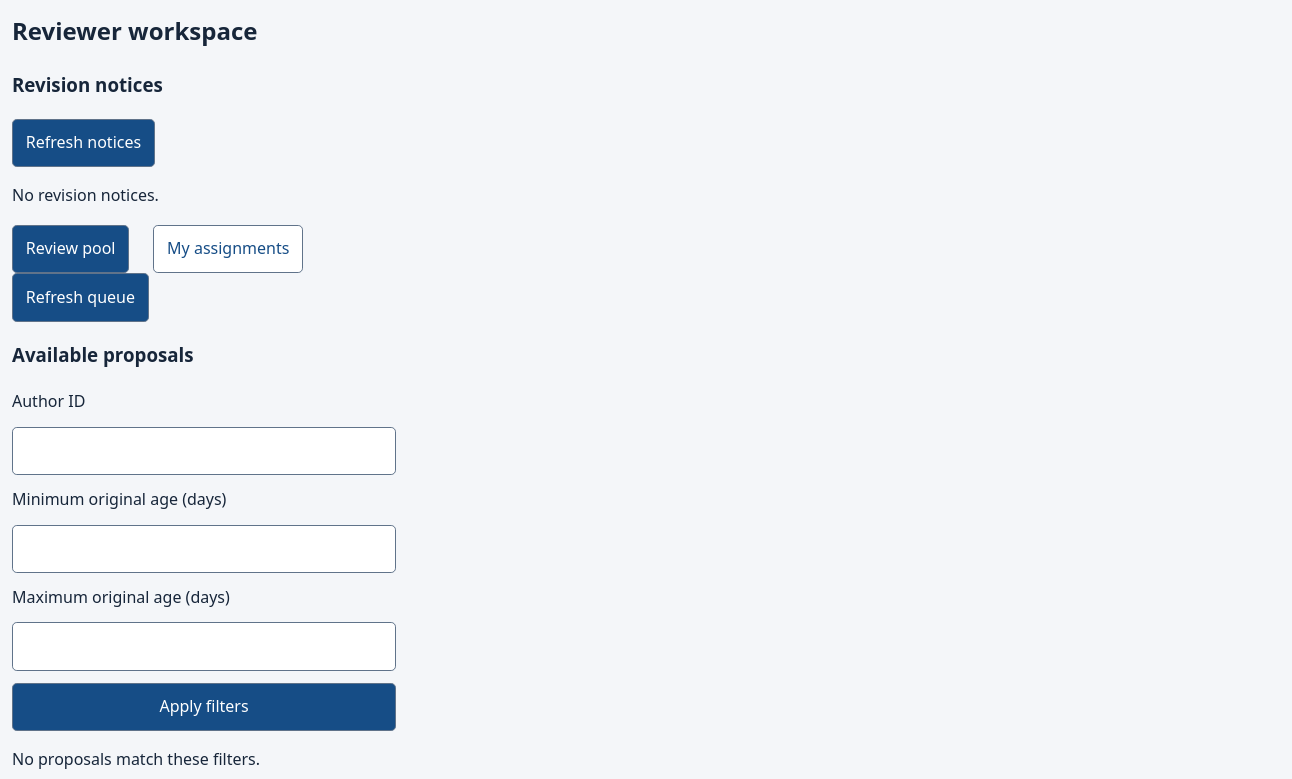
Scenario: clears detail and all other responses after authoritative history denial
This screenshot has width=1292, height=779.
Expected: the text "No proposals match these filters." is shown, [12, 748, 260, 770]
What coordinates should you click on to do the following:
click the button "My assignments"
I would click on:
 (228, 249)
Its box is [153, 225, 303, 273].
(page scrolled)
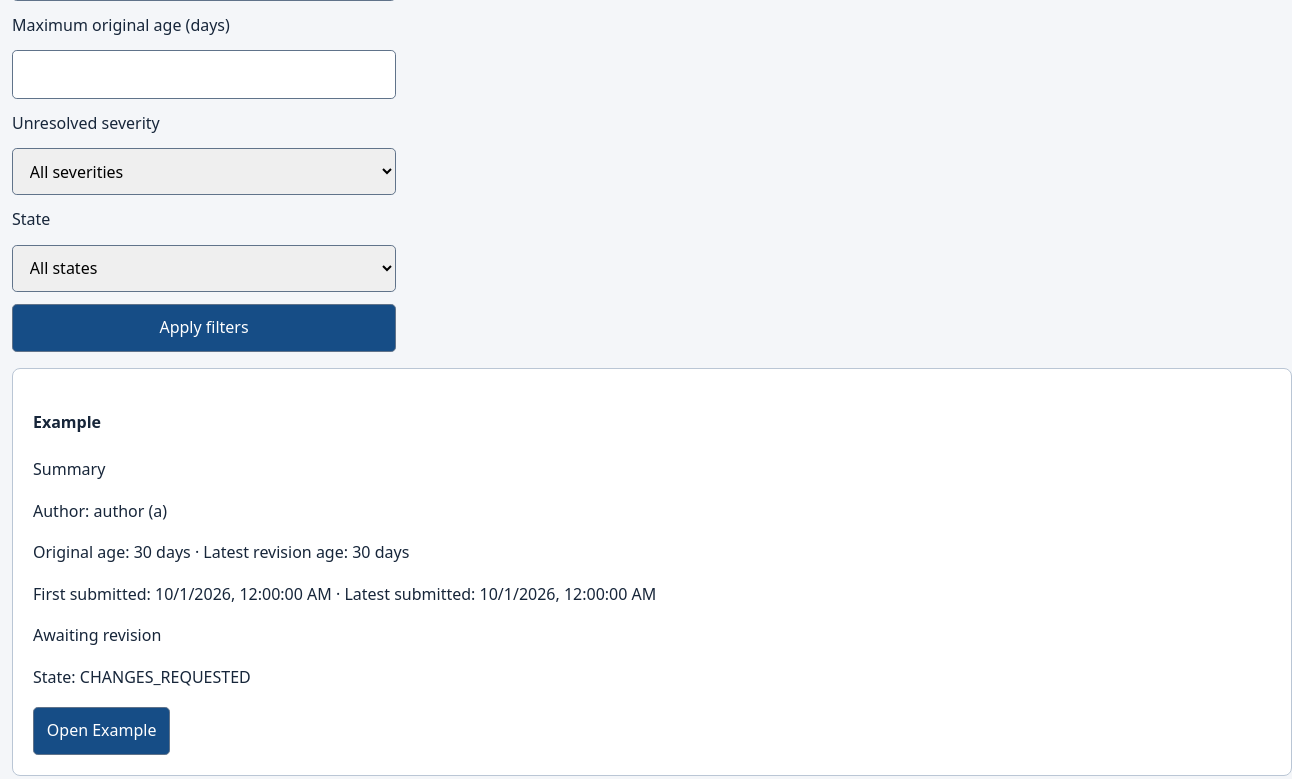
What coordinates should you click on to do the following:
click the button "Open Example"
I would click on:
 (102, 731)
Its box is [33, 707, 170, 755].
(page scrolled)
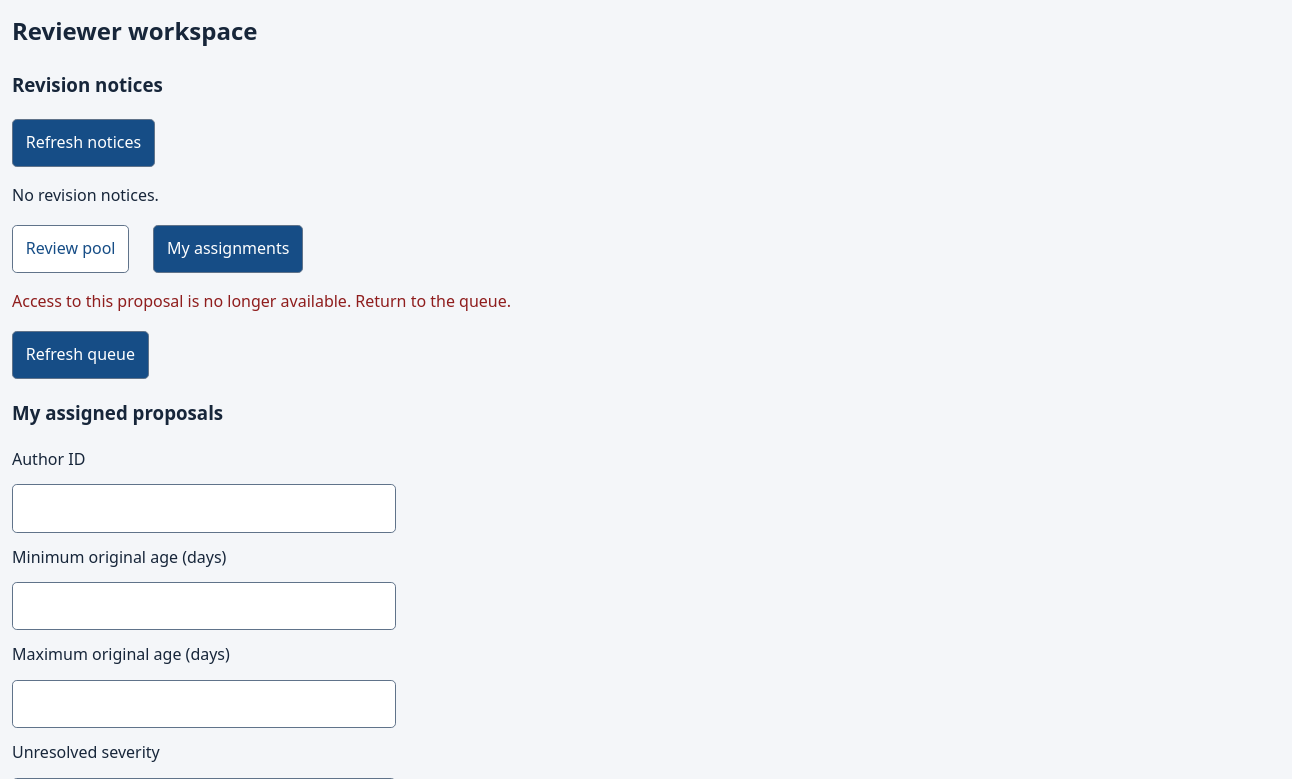
Now the message shows "Access to this proposal is no longer available", box [12, 290, 511, 312]
